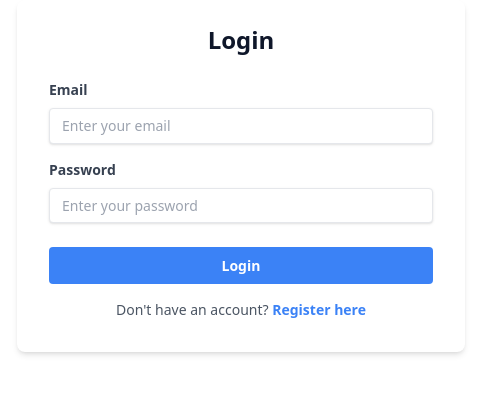
Test: LoginForm › should show validation error for empty email
This screenshot has width=483, height=413.
Click the button "Login" at (241,266), box [49, 247, 433, 284]
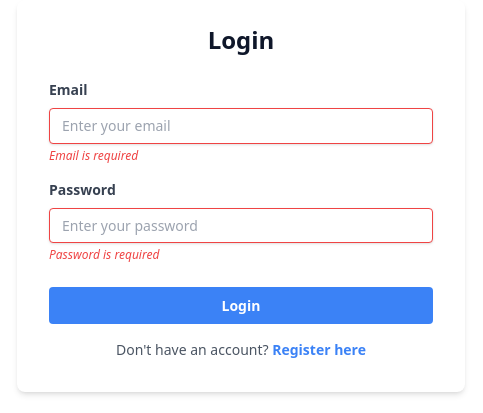
Expected: the text "Email is required" is shown, [49, 146, 138, 164]
